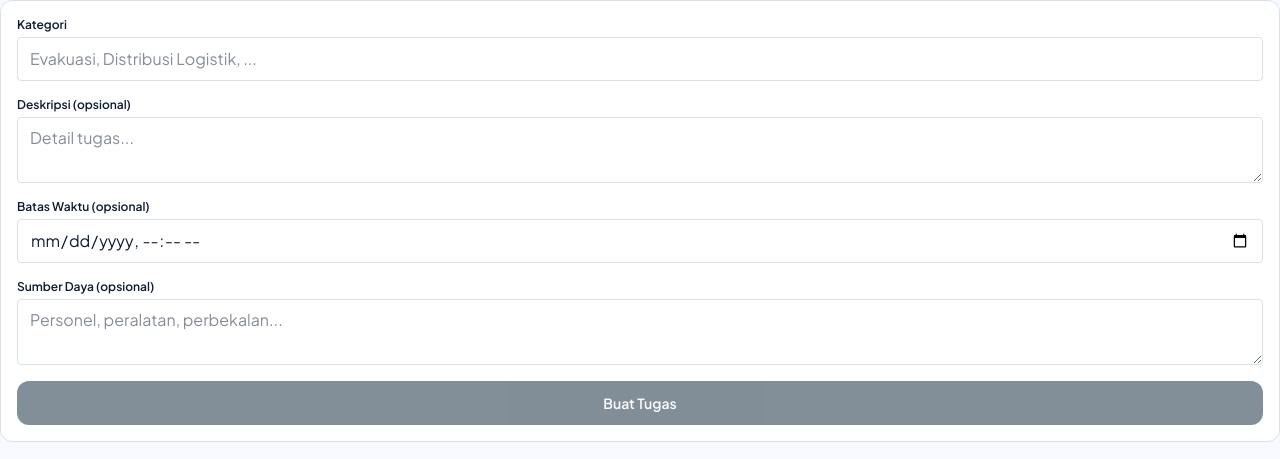
Test: CreateTaskForm › disables the submit button until a category is entered
The width and height of the screenshot is (1280, 459).
Check: the button "Buat Tugas" is disabled, box [17, 381, 1263, 425]
In the field with placeholder "Evakuasi, Distribusi Logistik, ...": x=640, y=59 [17, 37, 1263, 81], type "Evakuasi"
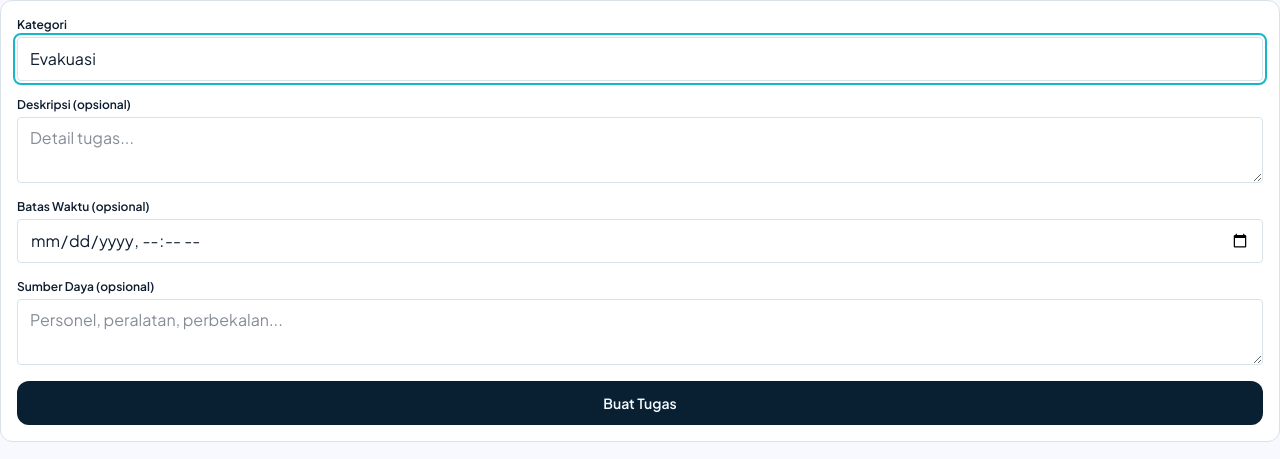
Check: the button "Buat Tugas" is enabled, box [17, 381, 1263, 425]
